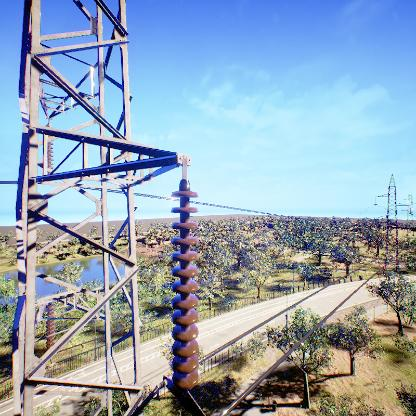insulator: (170, 188, 202, 392)
